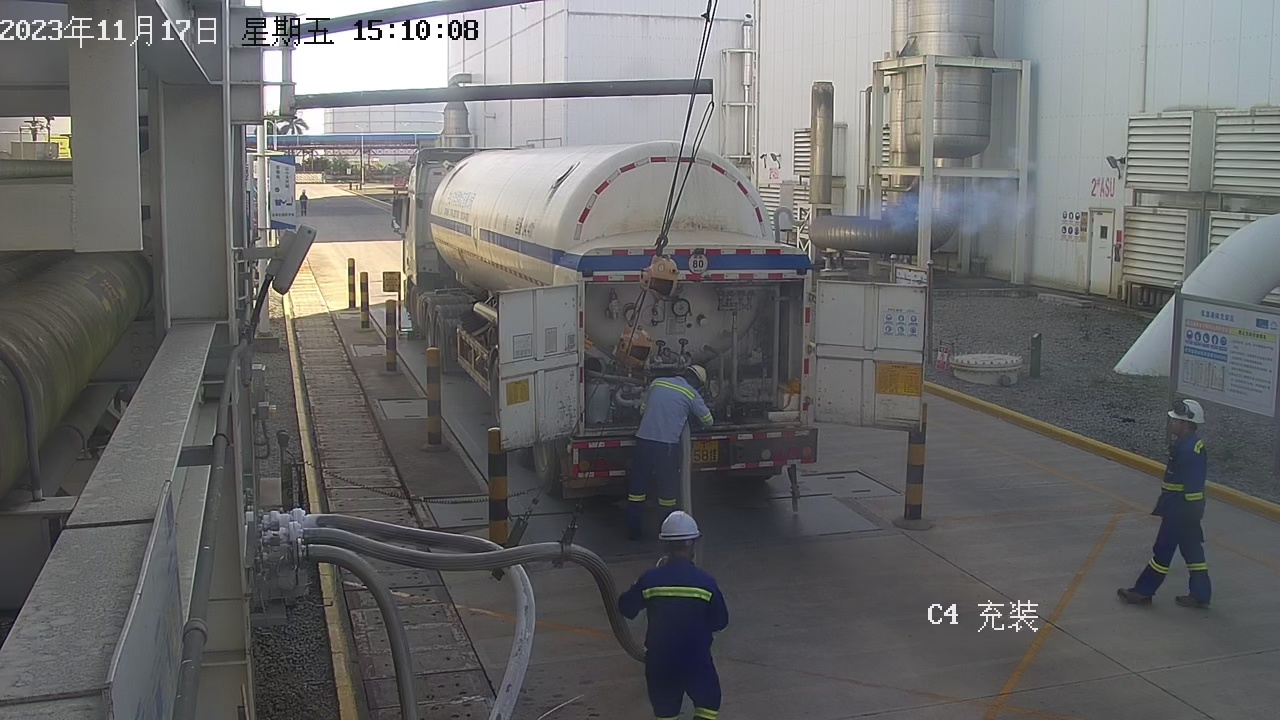Head_with_Helmet: (635, 508, 722, 566), (1143, 385, 1225, 446), (658, 349, 720, 394), (297, 188, 310, 199)
Uniform: (603, 550, 759, 720), (1120, 429, 1246, 624), (628, 373, 734, 539), (293, 193, 314, 218)
